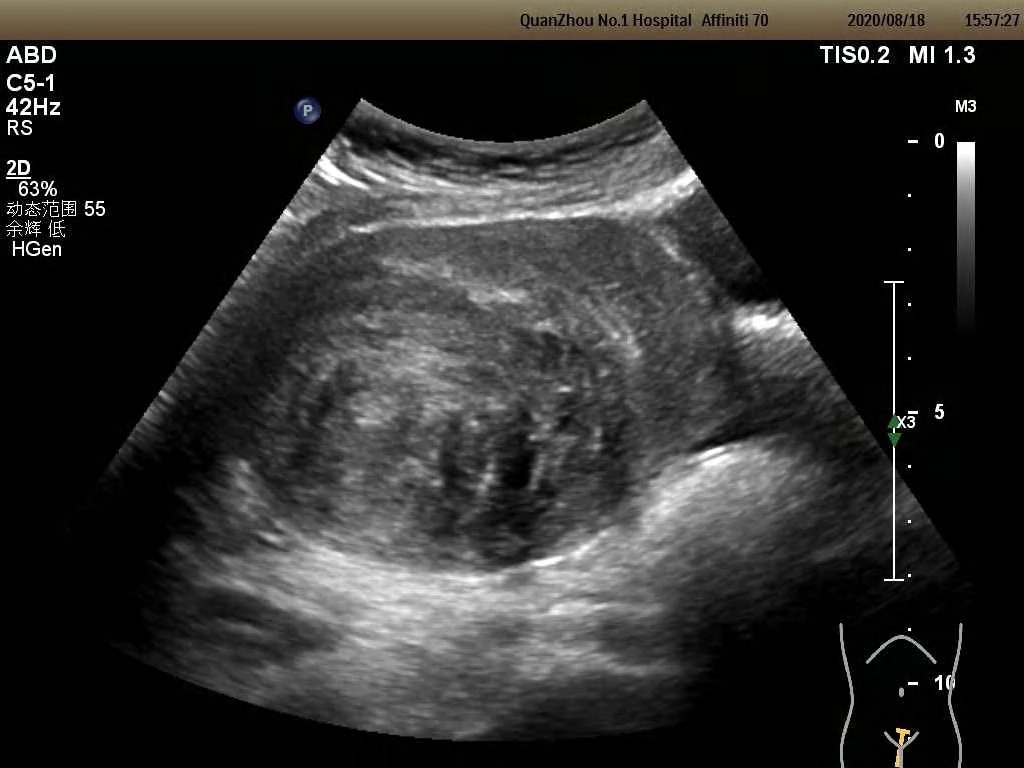肌瘤: (256, 271, 645, 568)
